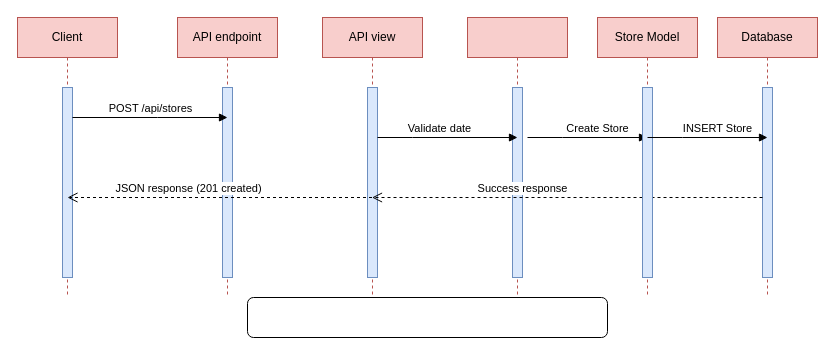
Some shapes in this 835 by 355 pixel diagram are drawn without their labels. Each missing label, with the centre of its shape:
"REST API Create Store (DRF endpoint)" belongs at [427,317].
"Serializer" belongs at [517,157].
